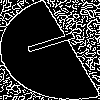I: (24, 25, 90, 56)
